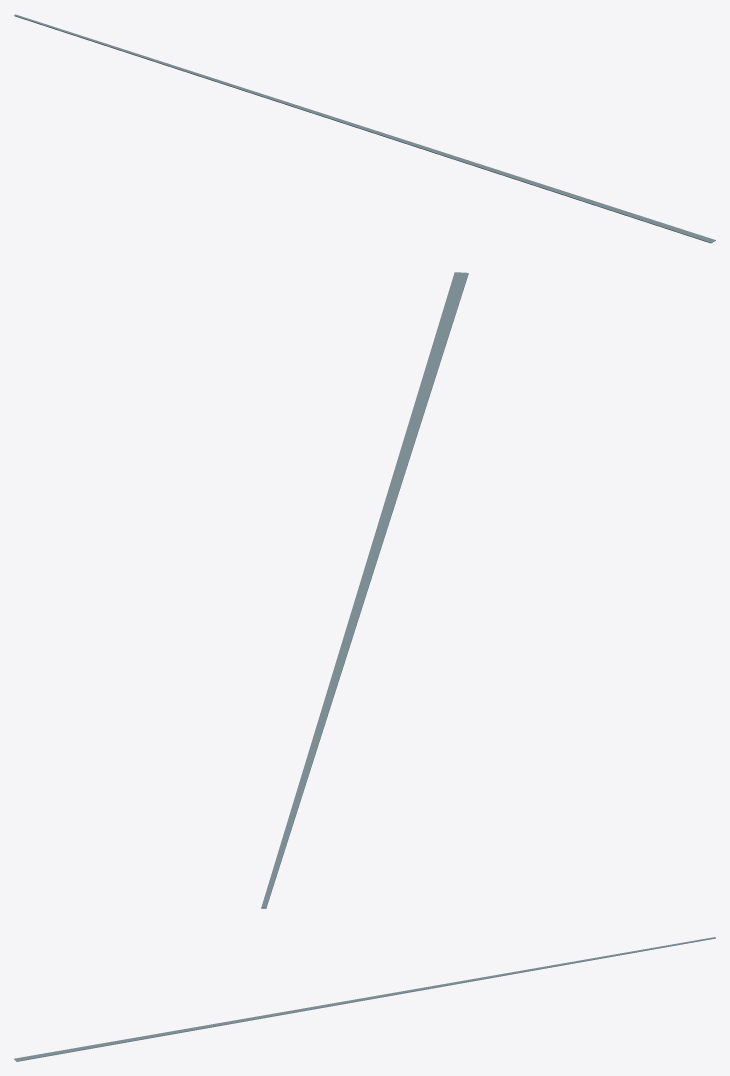
The model's file is Transit_Walk_W4_Curve45_R4_MarkPaverJoints.glb.
3 renders of one model, top to bottom at view 1: azimuth 30°, elevation 25°; view 2: azimuth 150°, elevation 25°; view 3: azimuth 270°, elevation 25°, orthographic. The views are drawn at different scales.
Visible parts, largest first — view 1: Transit_Walk_W4_Curve45_R4_MarkPaverJoints; view 2: Transit_Walk_W4_Curve45_R4_MarkPaverJoints; view 3: Transit_Walk_W4_Curve45_R4_MarkPaverJoints.
Part boxes in pixels (x1,y1,x2,y2): Transit_Walk_W4_Curve45_R4_MarkPaverJoints: (14, 14, 715, 243); Transit_Walk_W4_Curve45_R4_MarkPaverJoints: (261, 272, 468, 908); Transit_Walk_W4_Curve45_R4_MarkPaverJoints: (14, 937, 715, 1061).
Size of the model in its own units: 1.48 by 0.003 by 3.52.
